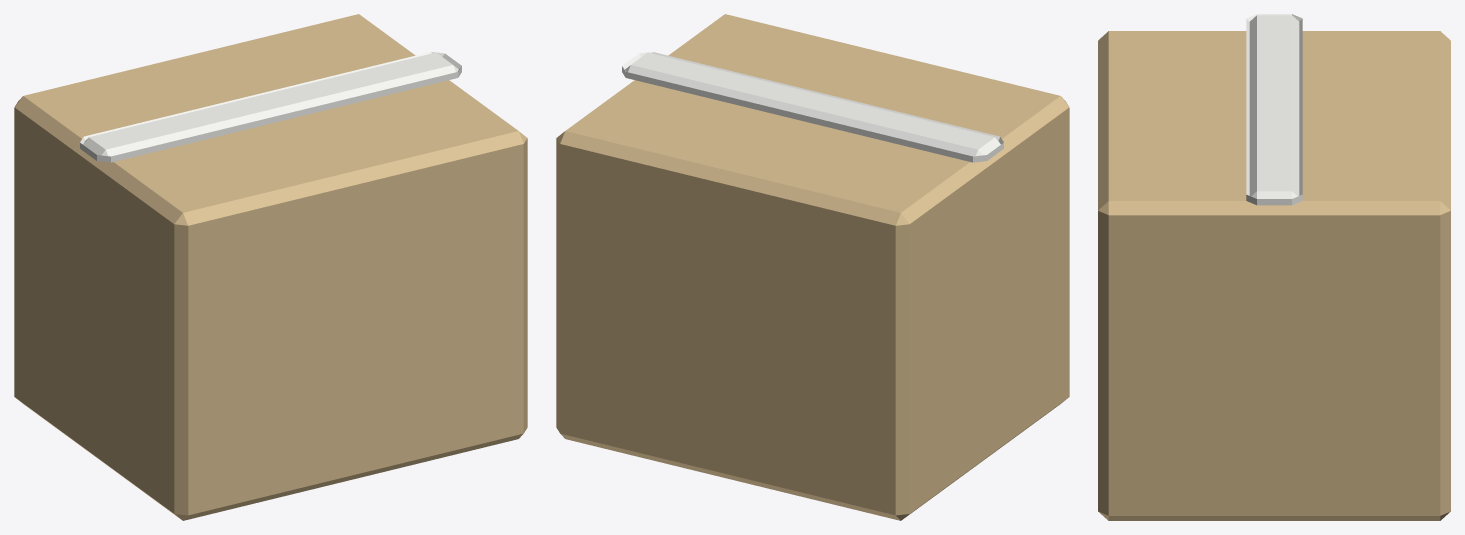
3 renders of one model, left to right at view 1: azimuth 30°, elevation 25°; view 2: azimuth 150°, elevation 25°; view 3: azimuth 270°, elevation 25°, orthographic. The views are drawn at different scales.
Visible parts, largest first — view 1: 箱体.003, 封箱带; view 2: 箱体.003, 封箱带; view 3: 箱体.003, 封箱带.
Part boxes in pixels (box(x1,y1,x2,y2)): 箱体.003: box(14, 14, 527, 520); 封箱带: box(80, 52, 461, 162); 箱体.003: box(556, 14, 1069, 520); 封箱带: box(622, 52, 1003, 162); 箱体.003: box(1098, 31, 1450, 520); 封箱带: box(1246, 14, 1302, 205).
Bounding box in the file's own units: 62 × 52 × 50.
